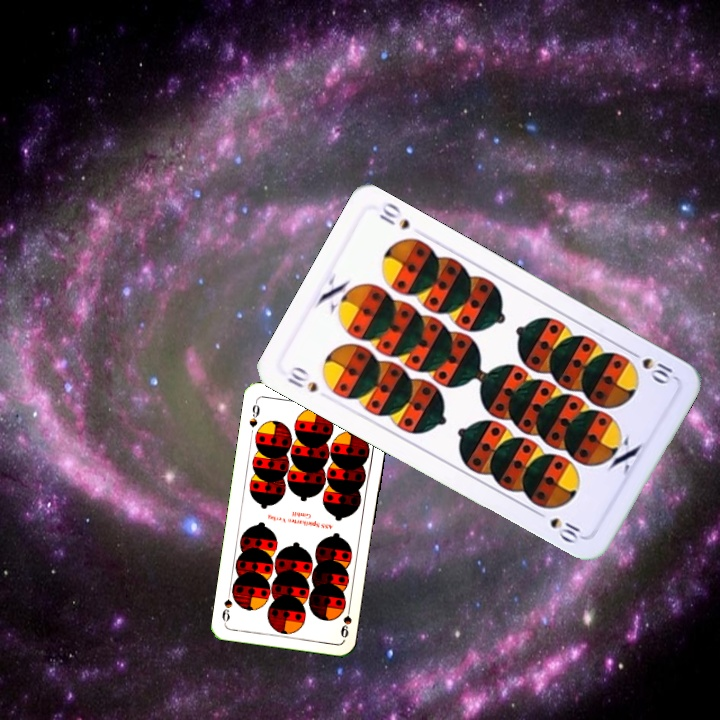S10: (621, 346, 679, 388), (283, 362, 321, 395)
S9: (336, 601, 354, 640), (245, 397, 262, 430)
